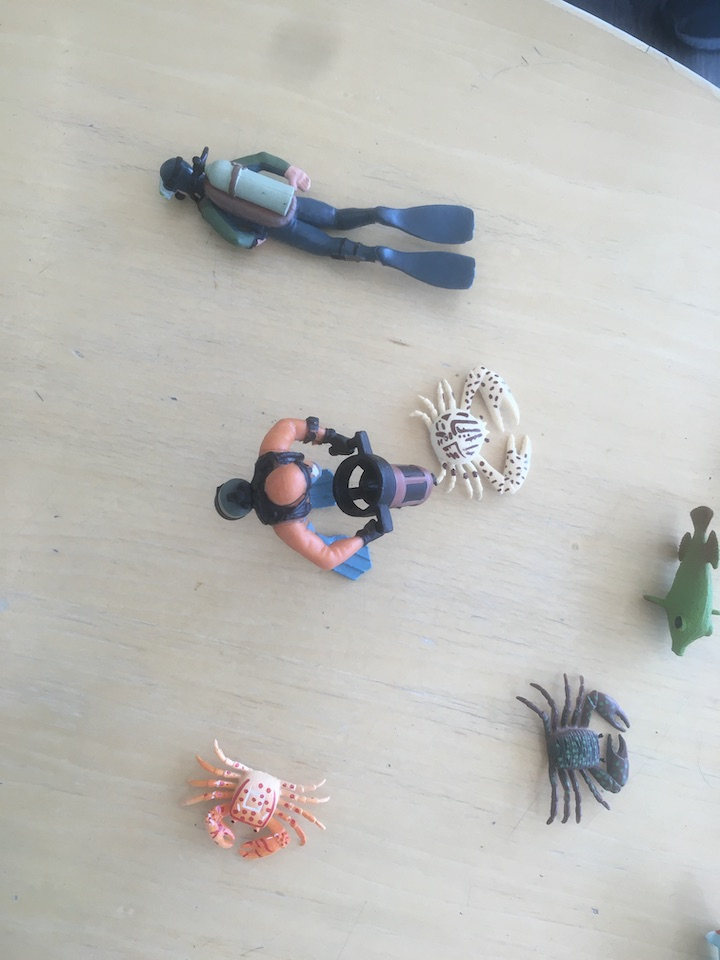crab: (180, 734, 334, 862), (515, 671, 633, 826), (411, 364, 535, 502)
diver: (158, 145, 478, 295), (212, 415, 441, 589)
fish: (641, 504, 720, 668)
